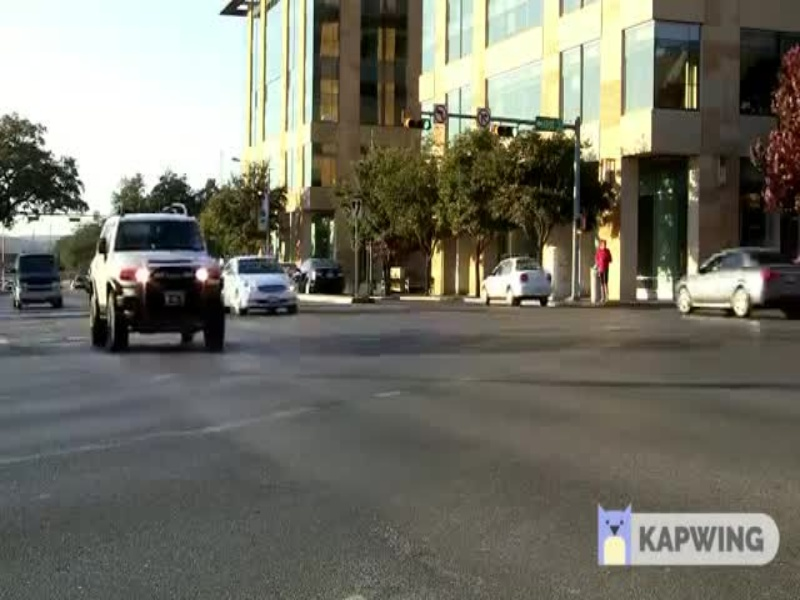car: (82, 211, 228, 365), (667, 246, 800, 328), (217, 246, 304, 325), (473, 253, 551, 312)
